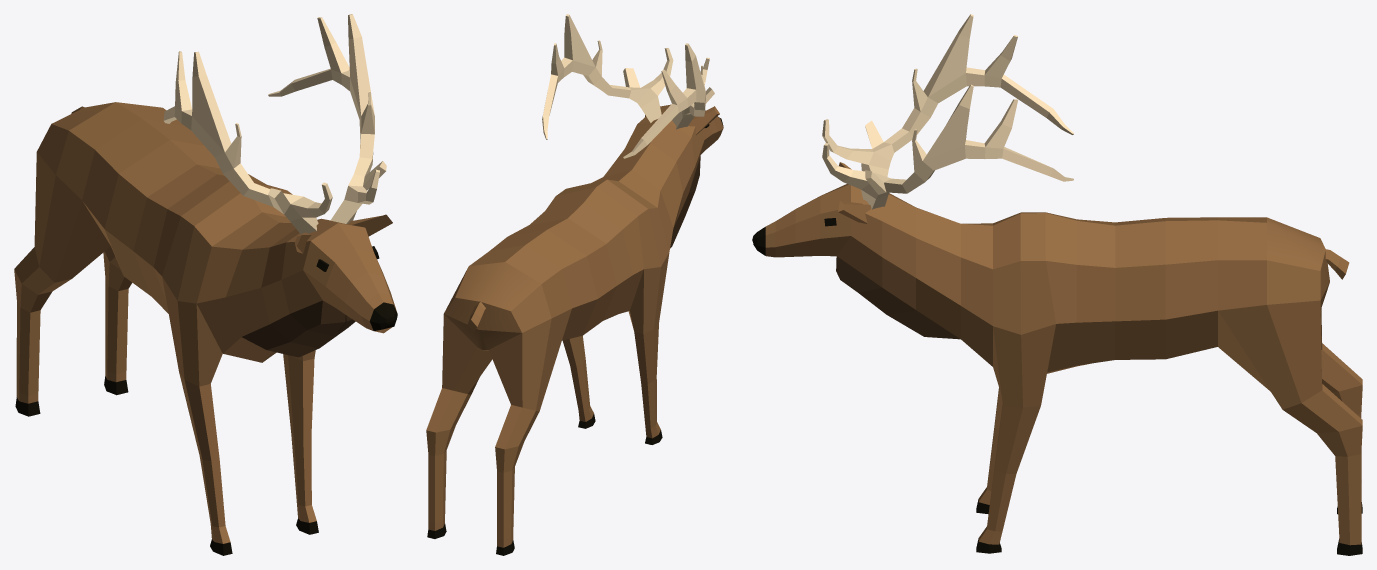
Rendered from Mesh_Elk.obj.
3 views of the same model, side by side, from view 1: azimuth 30°, elevation 25°; view 2: azimuth 150°, elevation 25°; view 3: azimuth 270°, elevation 25° (orthographic). The views are drawn at different scales.
Parts seen in each view (by area): view 1: Geo_Elk; view 2: Geo_Elk; view 3: Geo_Elk.
Part boxes in pixels (x1=…): Geo_Elk: x1=14, y1=14, x2=397, y2=555; Geo_Elk: x1=426, y1=14, x2=723, y2=555; Geo_Elk: x1=752, y1=14, x2=1362, y2=555.
Bounding box in the file's own units: 67.21 × 193 × 222.
1 material, 1 textured.
